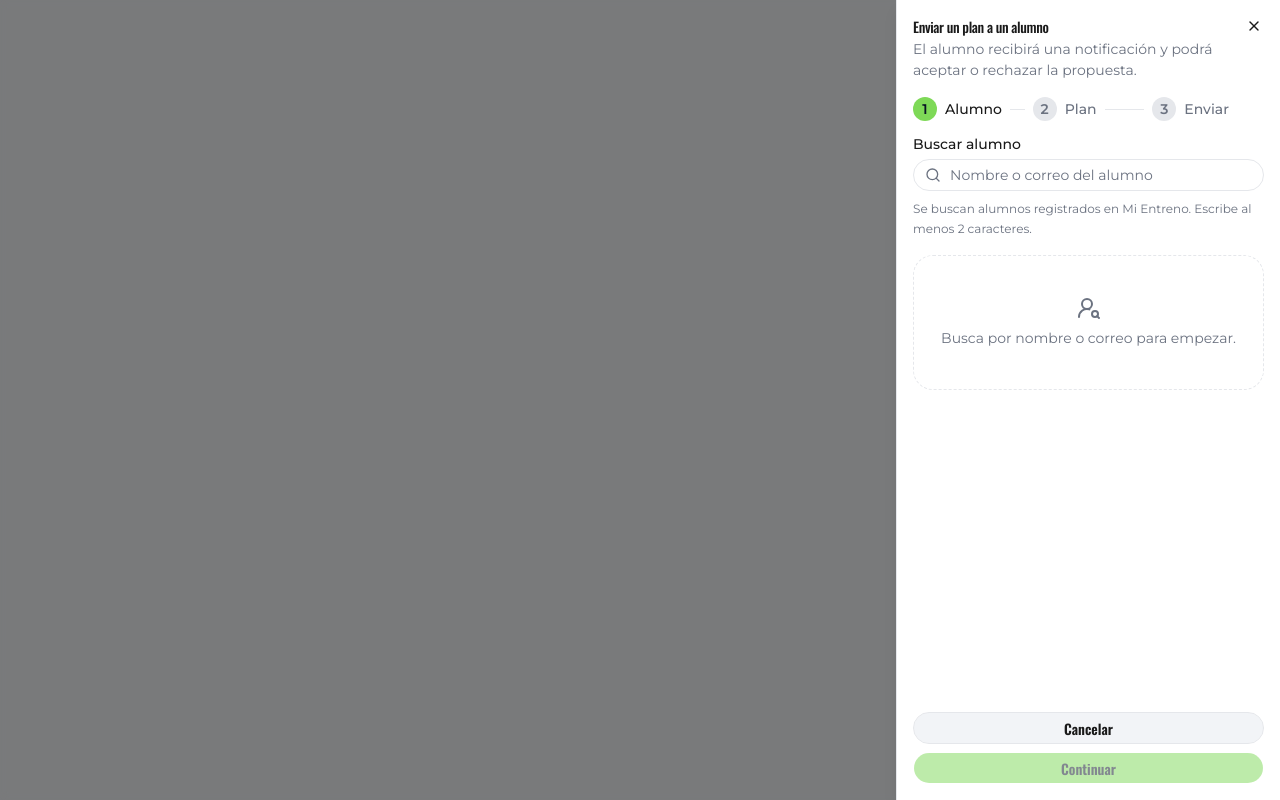
Test: InviteStudentSheet › does not offer a student who is already ours
Type "mar" into the search field labelled "Buscar alumno". click: (1088, 175)
box: [913,159,1264,191]
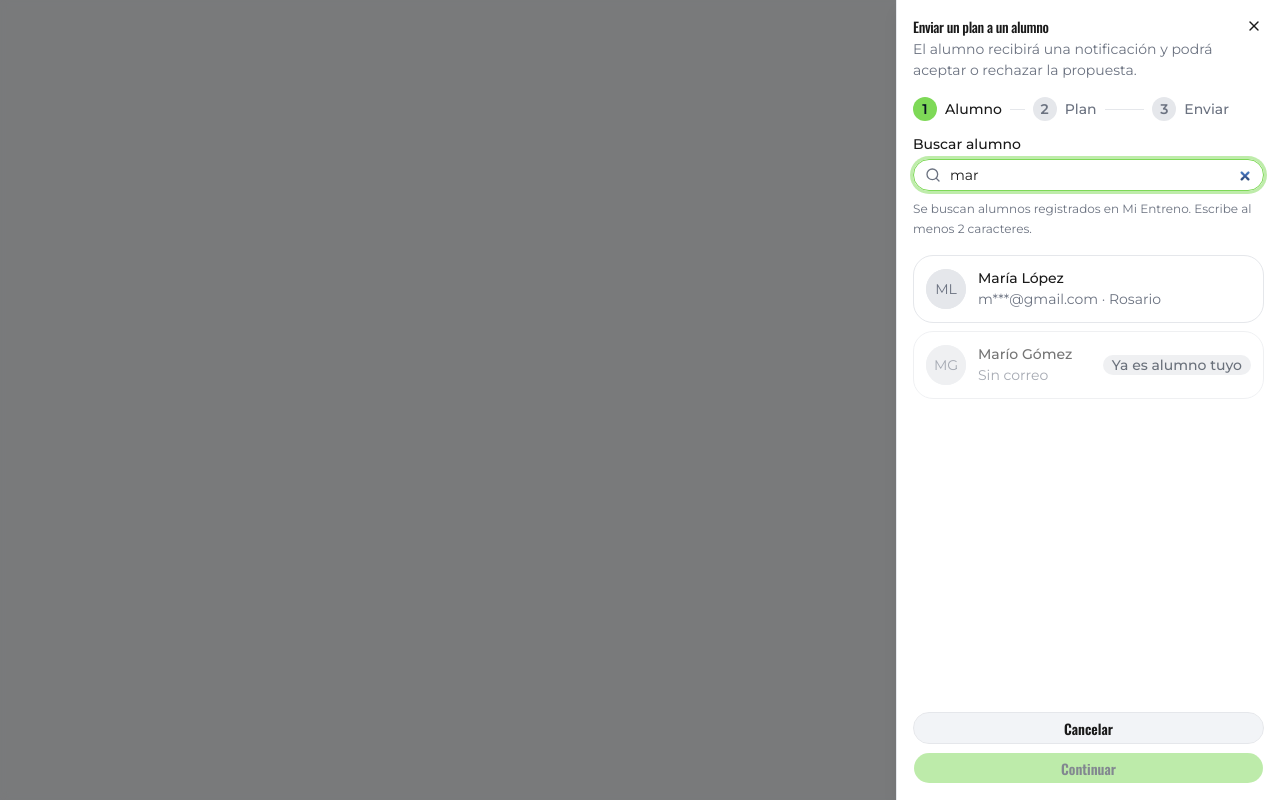
Result: the option "MG Marío Gómez Sin correo Ya es alumno tuyo" is disabled at [913,331,1264,399]
Result: the option "MG Marío Gómez Sin correo Ya es alumno tuyo" is shown at [913,331,1264,399]
